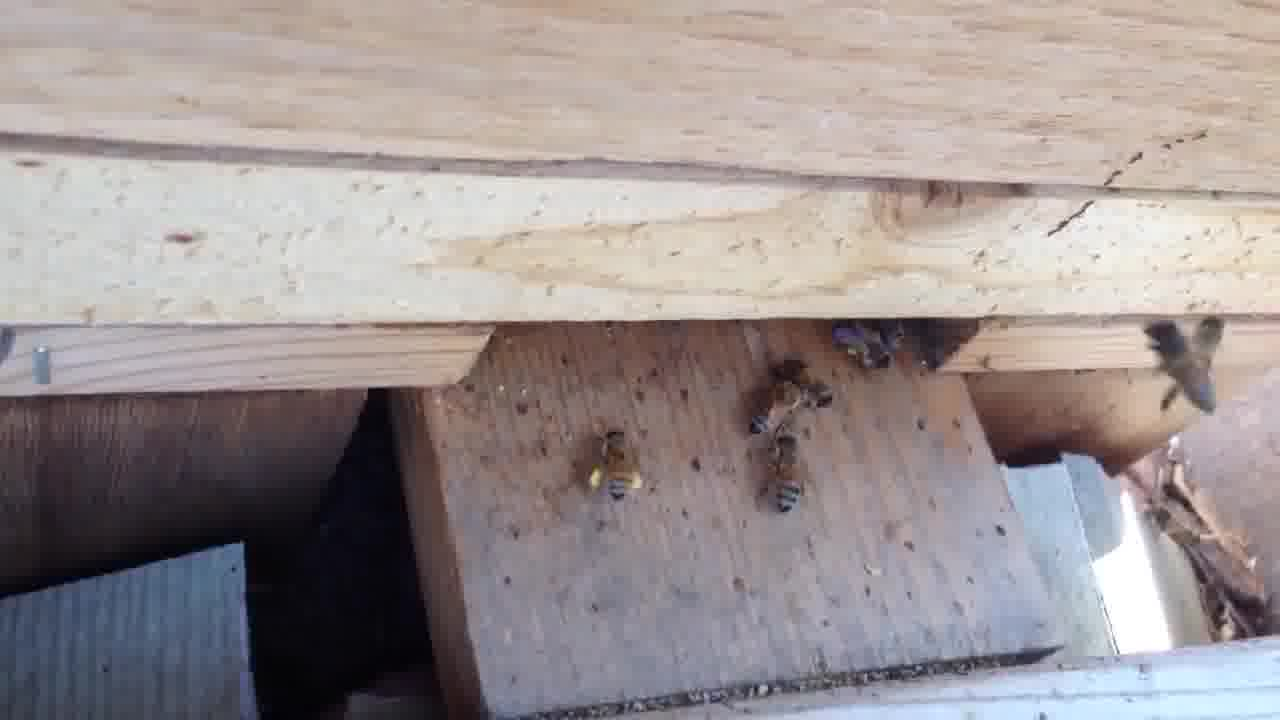pollen: (584, 418, 649, 506)
